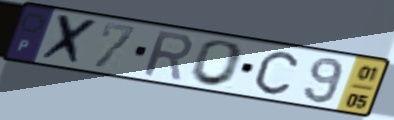7: (92, 20, 138, 71)
9: (300, 56, 346, 106)
C: (252, 50, 300, 97)
O: (187, 38, 247, 89)
R: (140, 29, 194, 83)
X: (36, 12, 102, 69)
